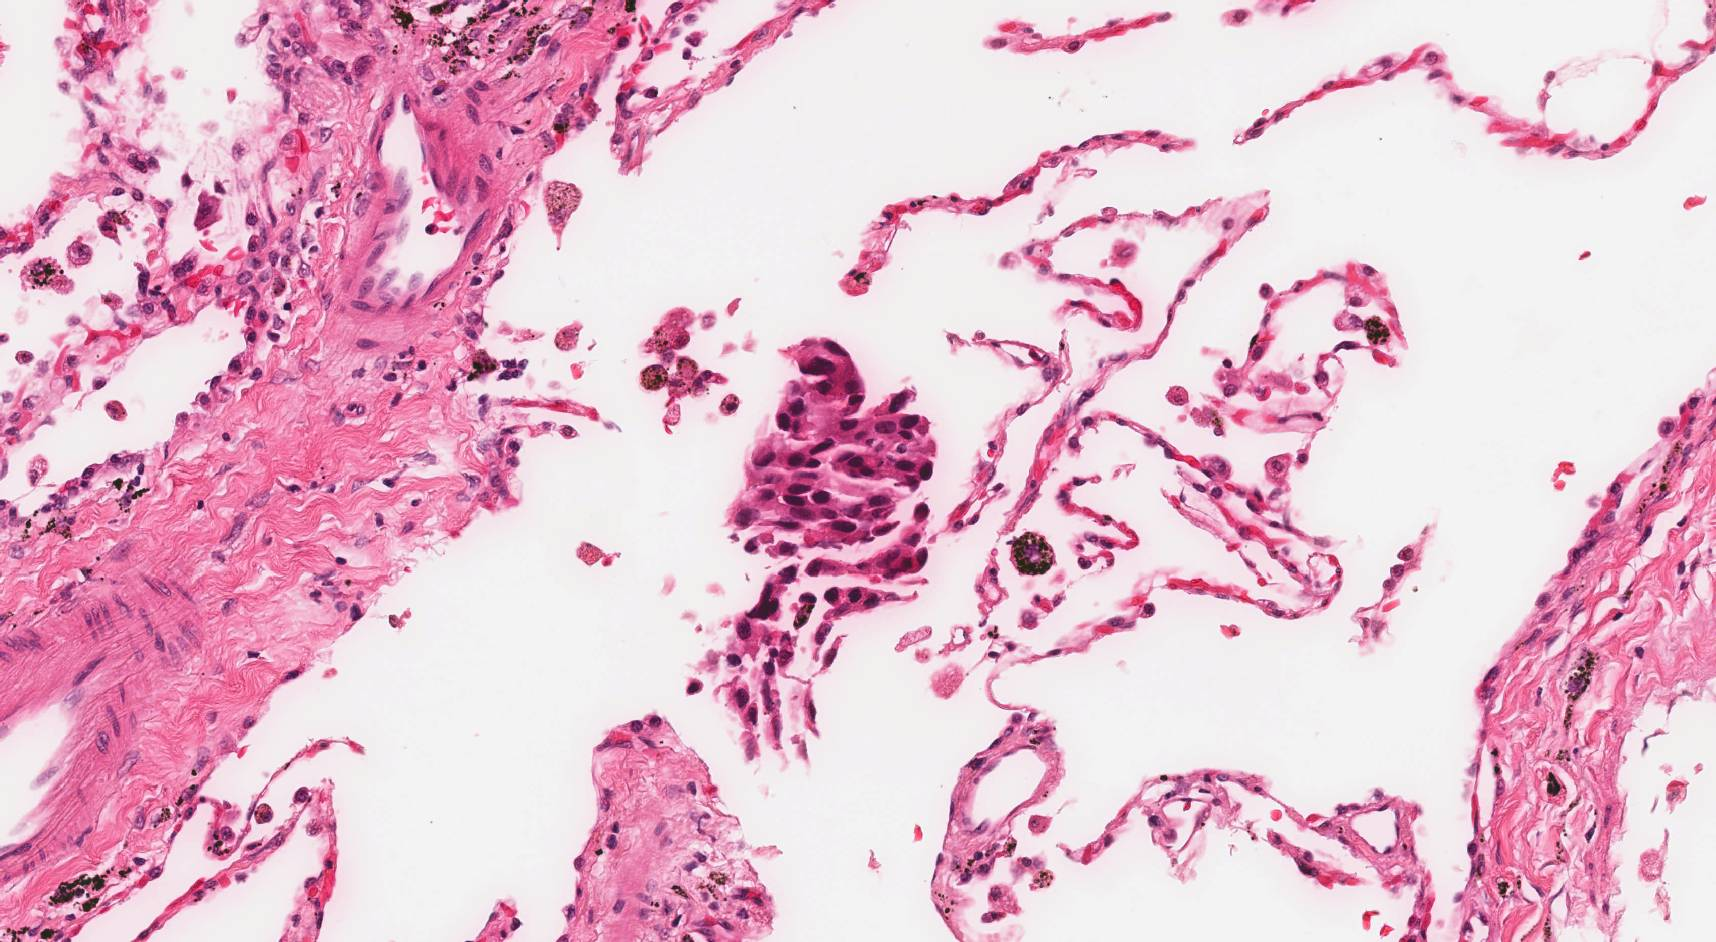stas: (689, 335, 940, 769)
